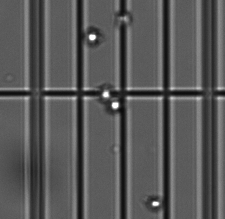Living Cell: (146, 196, 163, 210), (108, 99, 123, 114), (86, 28, 99, 45), (99, 84, 112, 101)
